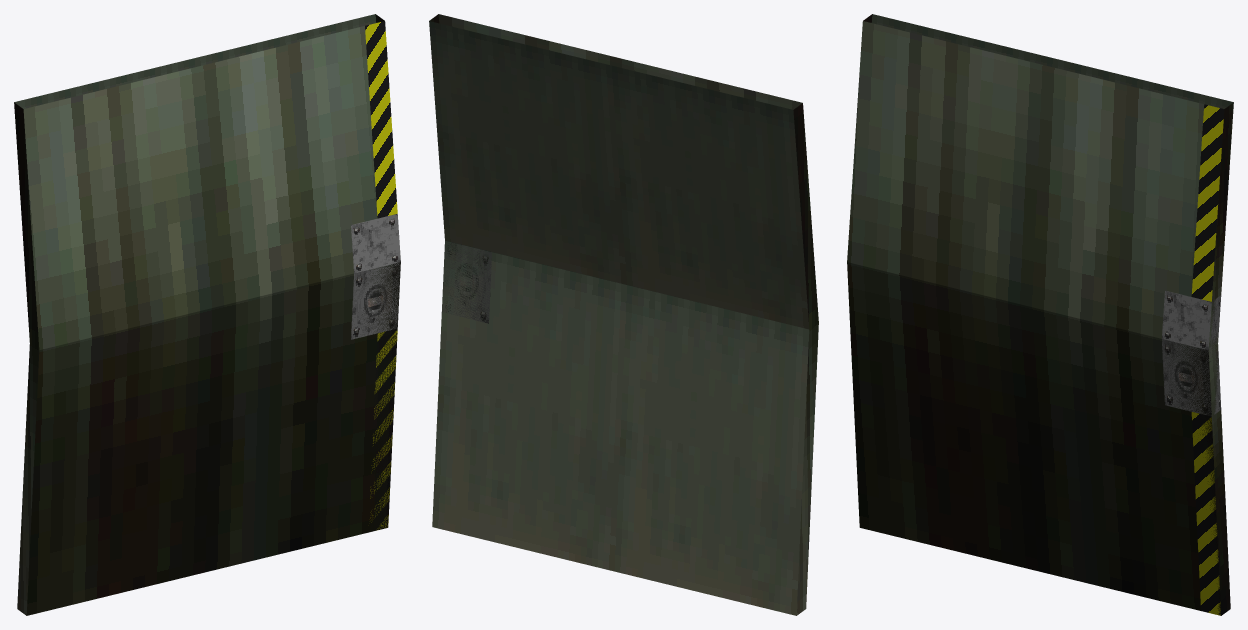
Rendered from primary_131.glb.
3 views of the same model, side by side, from view 1: azimuth 30°, elevation 25°; view 2: azimuth 150°, elevation 25°; view 3: azimuth 330°, elevation 25° (orthographic).
Visible parts, largest first — view 1: Object; view 2: Object; view 3: Object.
Part boxes in pixels (<box>): Object: <box>14,14,400,615</box>; Object: <box>429,14,818,615</box>; Object: <box>847,14,1233,615</box>.
Bounding box in the file's own units: 1.71 × 2.28 × 0.2071.
11 materials, 11 textured.
